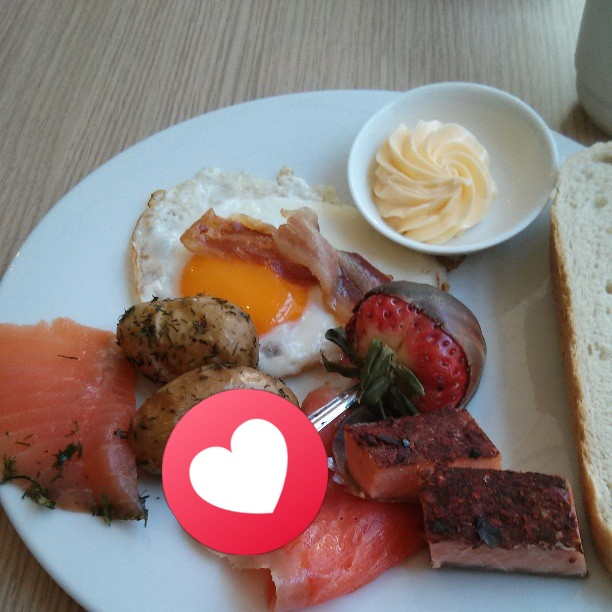love: (162, 389, 328, 555)
